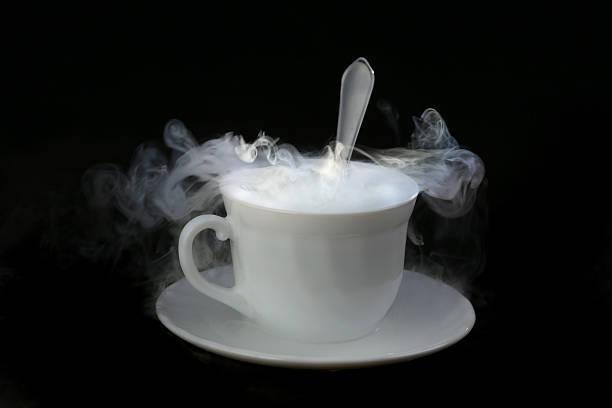cup-handle: (177, 151, 421, 344)
